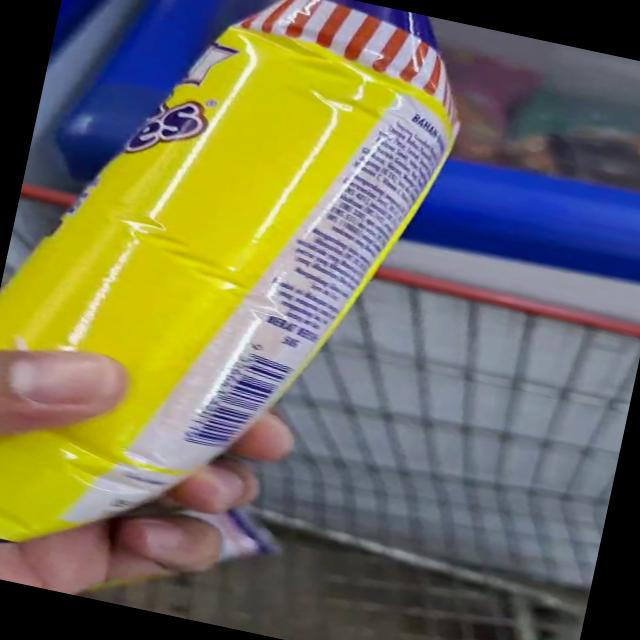Roti: (0, 114, 369, 604), (137, 0, 509, 319)
